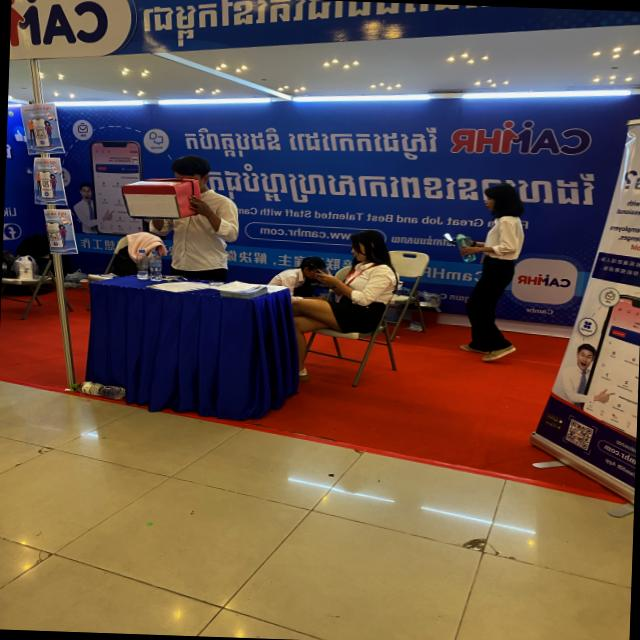1: (180, 121, 443, 163)
893: (140, 0, 308, 51)
Yolov11kh: (200, 159, 480, 207), (510, 172, 602, 209), (389, 231, 444, 248)
